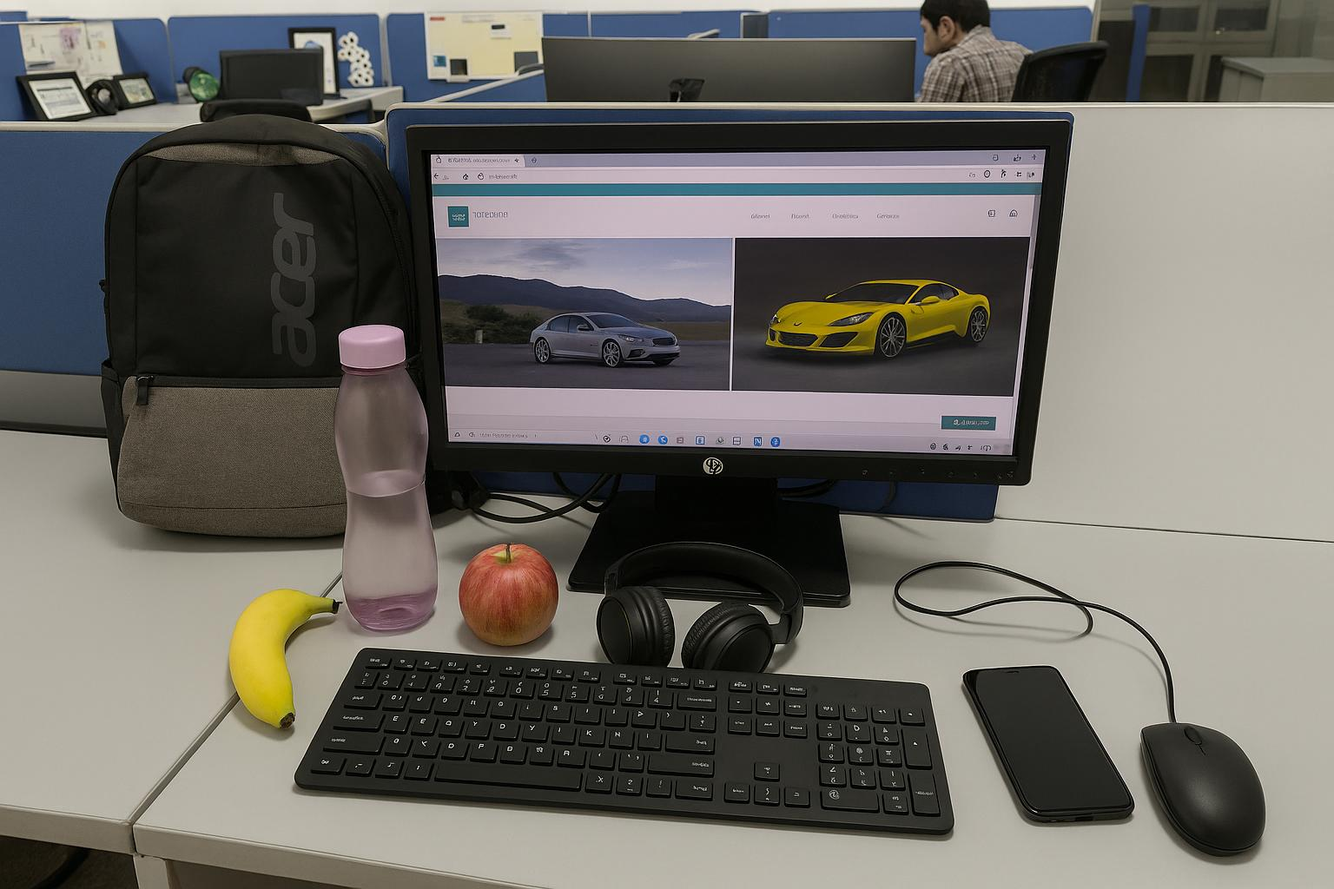bag: (101, 117, 427, 544)
bottle: (328, 321, 441, 638)
desktop: (405, 102, 1080, 611)
headphone: (591, 530, 809, 695), (626, 558, 778, 632)
keyboard: (284, 637, 966, 852)
mouse: (1131, 719, 1288, 864)
